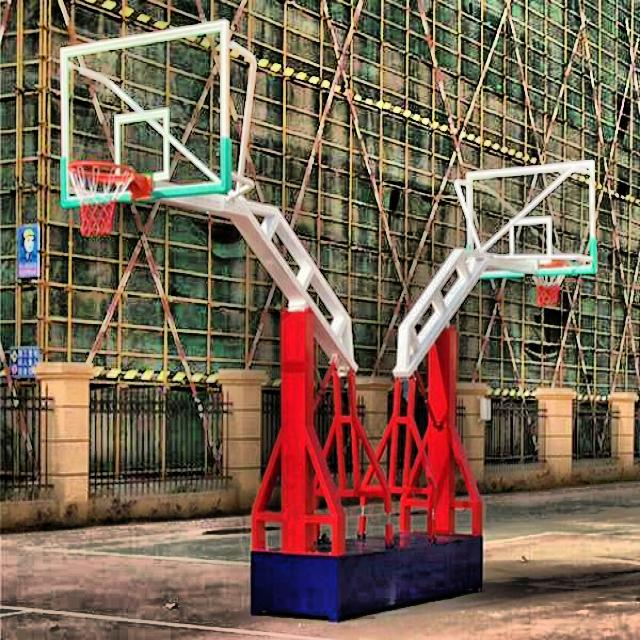rim: (70, 160, 131, 236)
